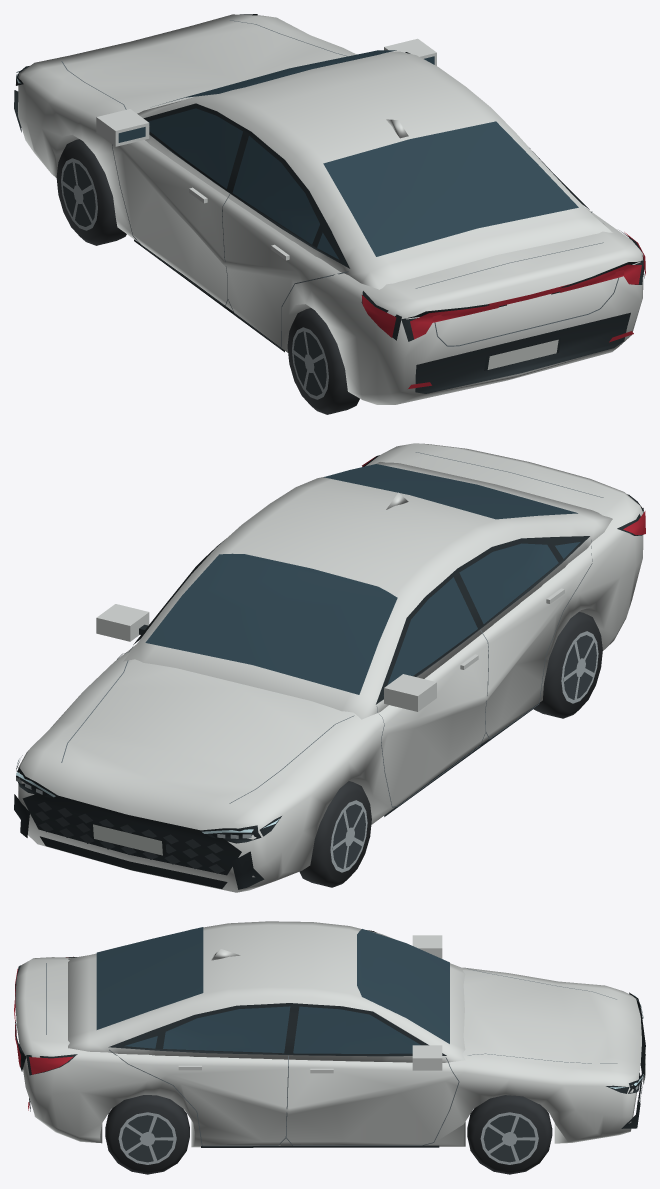
Rendered from avante-cn7.glb.
3 renders of one model, top to bottom at view 1: azimuth 30°, elevation 25°; view 2: azimuth 150°, elevation 25°; view 3: azimuth 270°, elevation 25°, orthographic. The views are drawn at different scales.
Parts seen in each view (by area): view 1: Body shell - formed fenders, Cabin - roof and pillars, Details | Glass | solid slate blue, Details | Trim | graphite, Details | Tail lamps | red, Left rear tire, Left front tire, Details | Wheels | inner graphite, Details | Wheels | satin silver, Details | Panel gaps | soft grey, Left mirror housing, Details | Number plates | blank ivory (+1 smaller); view 2: Body shell - formed fenders, Details | Glass | solid slate blue, Cabin - roof and pillars, Details | Trim | graphite, Details | Wheels | inner graphite, Left front tire, Left rear tire, Details | Wheels | satin silver, Left mirror housing, Right mirror housing, Details | Panel gaps | soft grey, Details | Number plates | blank ivory; view 3: Body shell - formed fenders, Details | Glass | solid slate blue, Cabin - roof and pillars, Details | Trim | graphite, Right rear tire, Right front tire, Details | Wheels | inner graphite, Details | Wheels | satin silver, Details | Panel gaps | soft grey, Right mirror housing, Details | Tail lamps | red, Left mirror housing.
Boxes of the visible parts, x1,y1,x2,y2 form: Body shell - formed fenders: [18, 14, 643, 404]; Cabin - roof and pillars: [137, 51, 612, 289]; Details | Glass | solid slate blue: [118, 50, 578, 259]; Details | Trim | graphite: [14, 14, 644, 393]; Details | Tail lamps | red: [361, 232, 645, 388]; Left rear tire: [287, 308, 359, 414]; Left front tire: [56, 139, 126, 245]; Details | Wheels | inner graphite: [62, 162, 326, 395]; Details | Wheels | satin silver: [16, 74, 328, 399]; Details | Panel gaps | soft grey: [61, 20, 618, 349]; Left mirror housing: [96, 109, 149, 146]; Details | Number plates | blank ivory: [487, 339, 558, 369]; Body shell - formed fenders: [18, 443, 643, 892]; Details | Glass | solid slate blue: [145, 464, 580, 695]; Cabin - roof and pillars: [123, 462, 612, 719]; Details | Trim | graphite: [14, 455, 643, 889]; Details | Wheels | inner graphite: [35, 635, 596, 873]; Left front tire: [299, 781, 371, 887]; Left rear tire: [533, 612, 602, 718]; Details | Wheels | satin silver: [16, 631, 598, 872]; Left mirror housing: [384, 674, 436, 711]; Right mirror housing: [96, 604, 149, 641]; Details | Panel gaps | soft grey: [61, 452, 603, 807]; Details | Number plates | blank ivory: [93, 824, 162, 855]; Body shell - formed fenders: [15, 957, 641, 1147]; Details | Glass | solid slate blue: [96, 927, 449, 1053]; Cabin - roof and pillars: [68, 921, 465, 1062]; Details | Trim | graphite: [15, 930, 645, 1147]; Right rear tire: [105, 1095, 189, 1174]; Right front tire: [467, 1095, 552, 1174]; Details | Wheels | inner graphite: [121, 1052, 645, 1162]; Details | Wheels | satin silver: [118, 1080, 641, 1164]; Details | Panel gaps | soft grey: [46, 963, 617, 1146]; Right mirror housing: [412, 1045, 442, 1070]; Details | Tail lamps | red: [14, 956, 73, 1110]; Left mirror housing: [412, 935, 442, 958].
Bounding box in the file's own units: 2.19 × 1.47 × 4.75.
